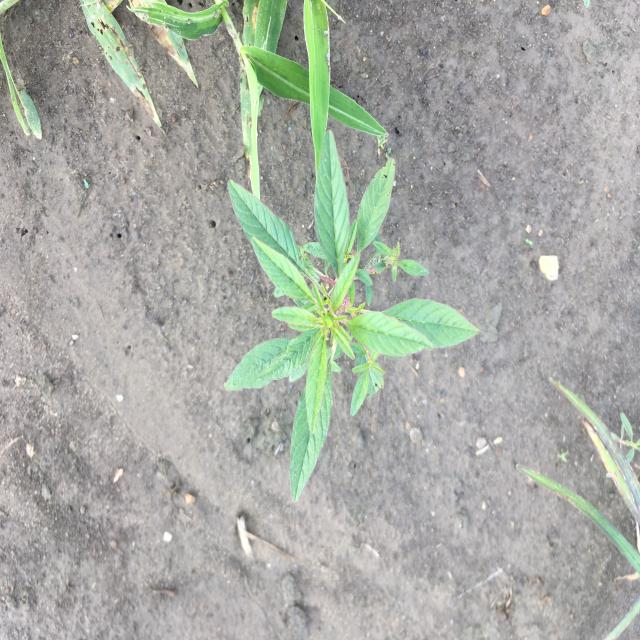Waterhemp: (222, 129, 483, 508)
